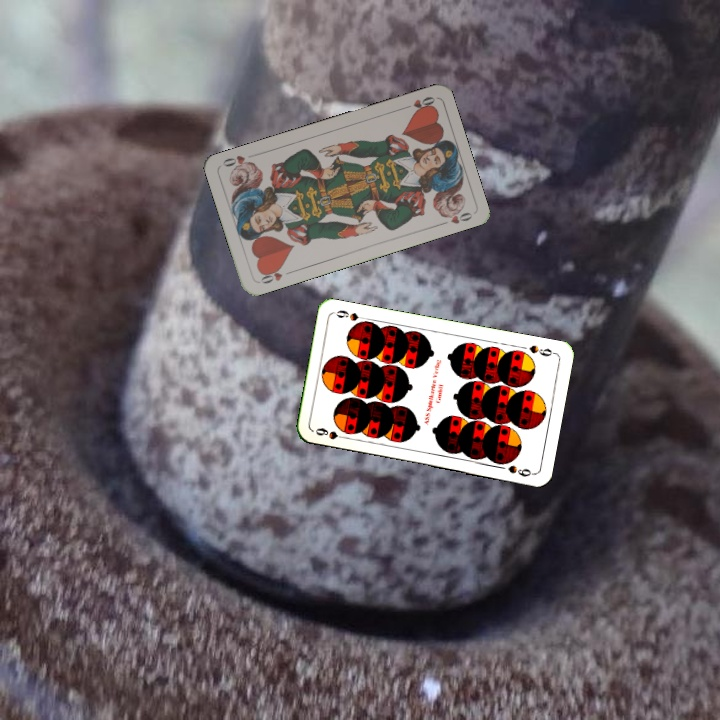HO: (256, 263, 295, 286), (398, 92, 438, 114)
S9: (311, 424, 351, 442), (525, 341, 558, 359)
